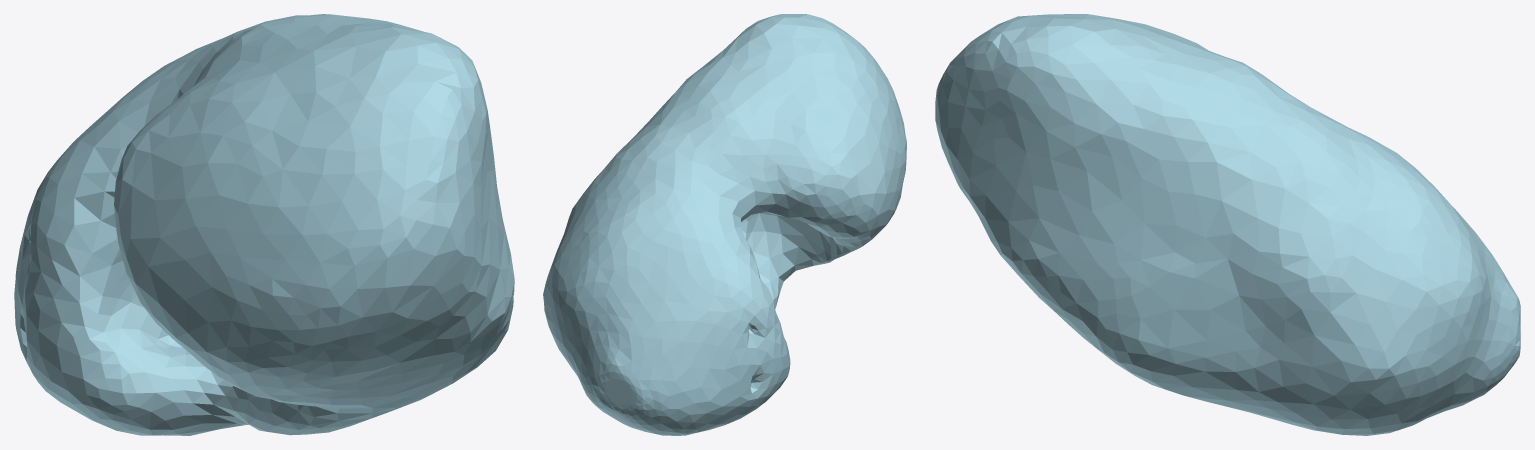
Rendered from leftkidney.obj.
The picture shows the model from 3 angles, left to right: view 1: azimuth 30°, elevation 25°; view 2: azimuth 150°, elevation 25°; view 3: azimuth 270°, elevation 25°; orthographic projection. The views are drawn at different scales.
Parts seen in each view (by area): view 1: grp1; view 2: grp1; view 3: grp1.
Boxes of the visible parts, x1,y1,x2,y2 form: grp1: (14, 14, 514, 435); grp1: (543, 14, 906, 435); grp1: (935, 14, 1520, 435).
Size of the model in its own units: 61.55 by 73.1 by 97.6.
